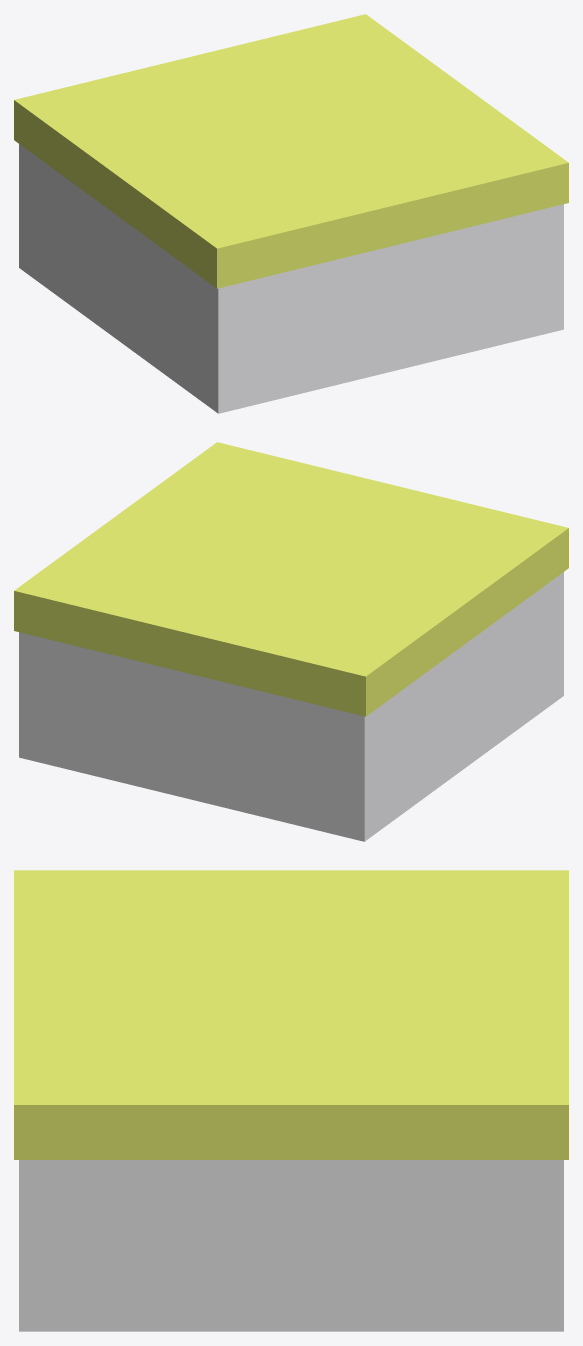
Rendered from ciclista_canela.glb.
3 renders of one model, top to bottom at view 1: azimuth 30°, elevation 25°; view 2: azimuth 150°, elevation 25°; view 3: azimuth 270°, elevation 25°, orthographic. The views are drawn at different scales.
Visible parts, largest first — view 1: ciclista_canela; view 2: ciclista_canela; view 3: ciclista_canela.
Boxes of the visible parts, <box> form: ciclista_canela: <box>14,14,568,413</box>; ciclista_canela: <box>14,442,568,841</box>; ciclista_canela: <box>14,870,568,1331</box>.
Size of the model in its own units: 0.275 by 0.125 by 0.275.
